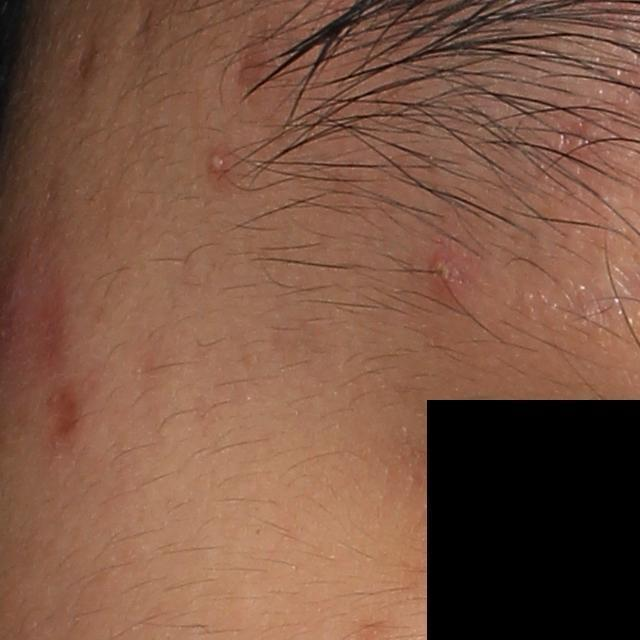papule: (420, 247, 470, 290)
